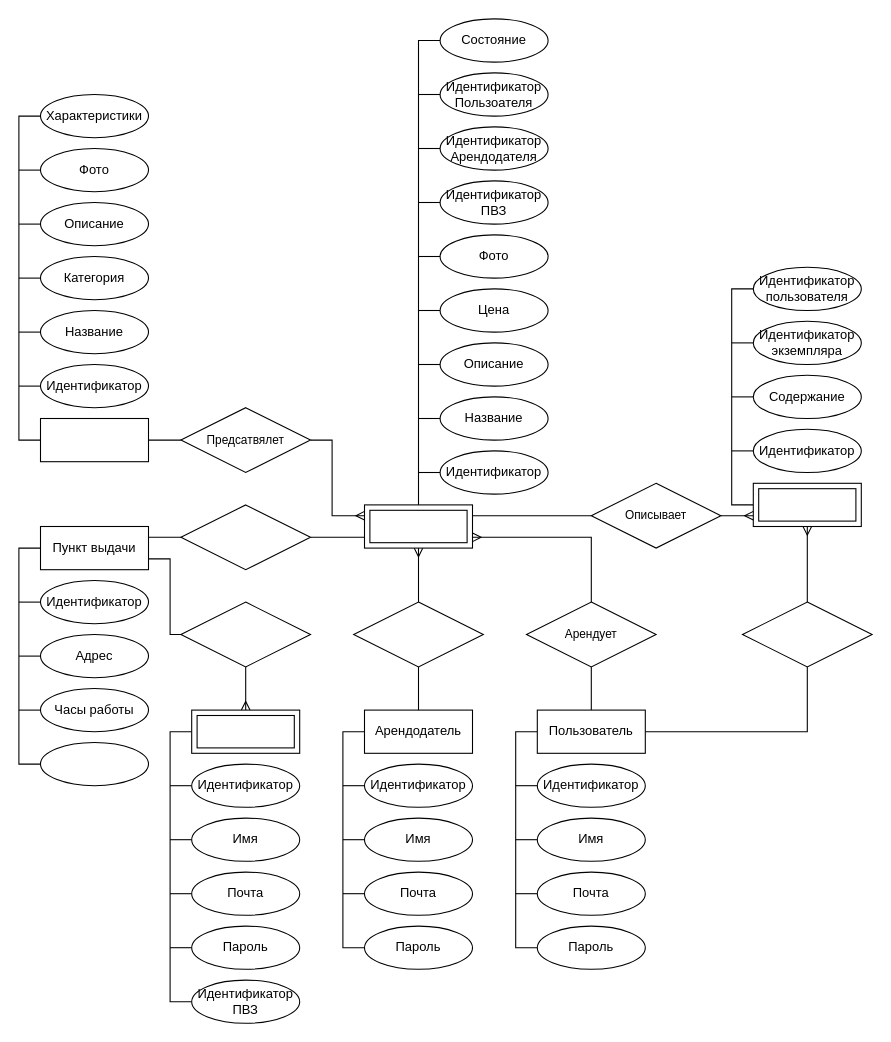
The diagram is 891 pixels wide and 1042 high, and some of its shapes have lost their labels. Here are the shapes that lost their labels. From the top down, the box of each, then its label:
(39, 417, 148, 462): Товар
(752, 482, 861, 526): Отзыв
(180, 504, 310, 570): Содержит
(363, 504, 473, 548): Экземпляр товара
(180, 601, 310, 667): Работает
(353, 601, 483, 667): Предоставляет
(741, 601, 872, 667): Оставляет
(191, 709, 300, 753): Складовщик
(39, 741, 148, 786): Вместительность
